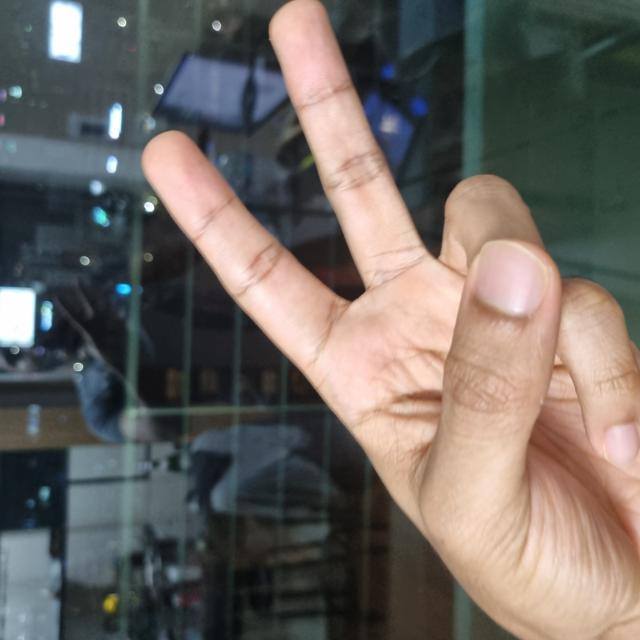Scissors: (5, 147, 636, 639)
